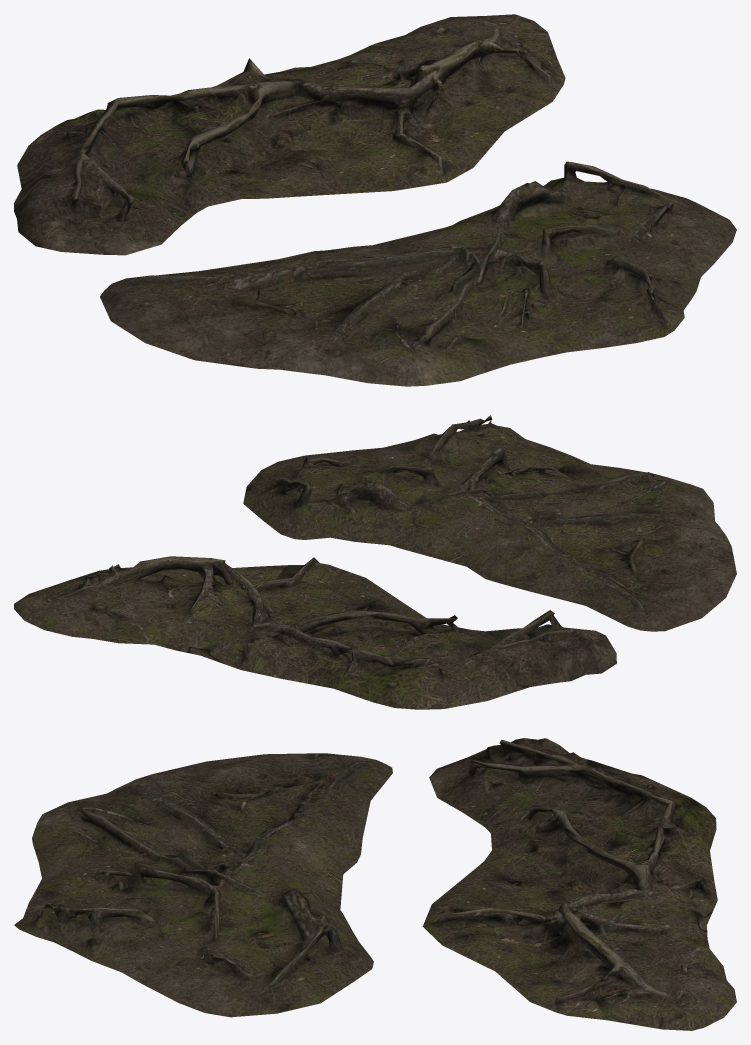
Rendered from pine_roots.glb.
3 renders of one model, top to bottom at view 1: azimuth 30°, elevation 25°; view 2: azimuth 150°, elevation 25°; view 3: azimuth 270°, elevation 25°, orthographic. The views are drawn at different scales.
Parts seen in each view (by area): view 1: pine_roots_b, pine_roots_a; view 2: pine_roots_b, pine_roots_a; view 3: pine_roots_b, pine_roots_a.
Part boxes in pixels (left/top/right/bottom): pine_roots_b: left=100, top=161, right=736, bottom=386; pine_roots_a: left=14, top=14, right=565, bottom=255; pine_roots_b: left=243, top=415, right=736, bottom=631; pine_roots_a: left=14, top=556, right=616, bottom=709; pine_roots_b: left=14, top=753, right=392, bottom=1017; pine_roots_a: left=422, top=738, right=736, bottom=1030.
Bounding box in the file's own units: 1.76 × 0.1538 × 1.89.
2 materials, 2 textured.
